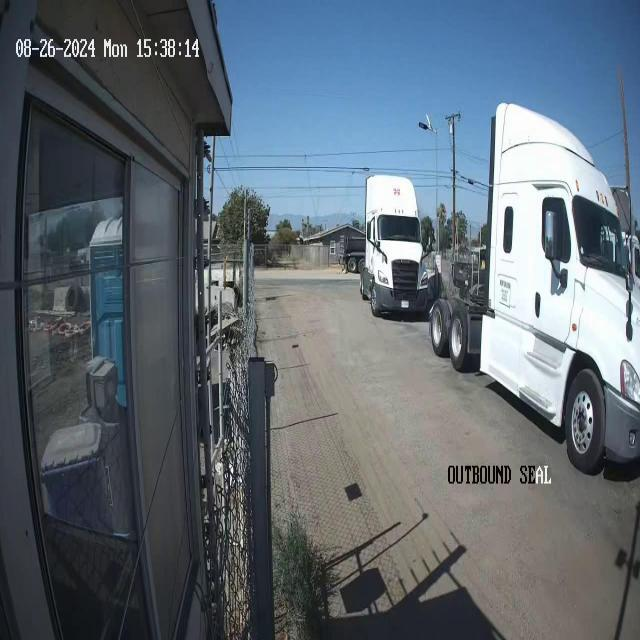TRUCK_IN: (429, 96, 639, 476)
